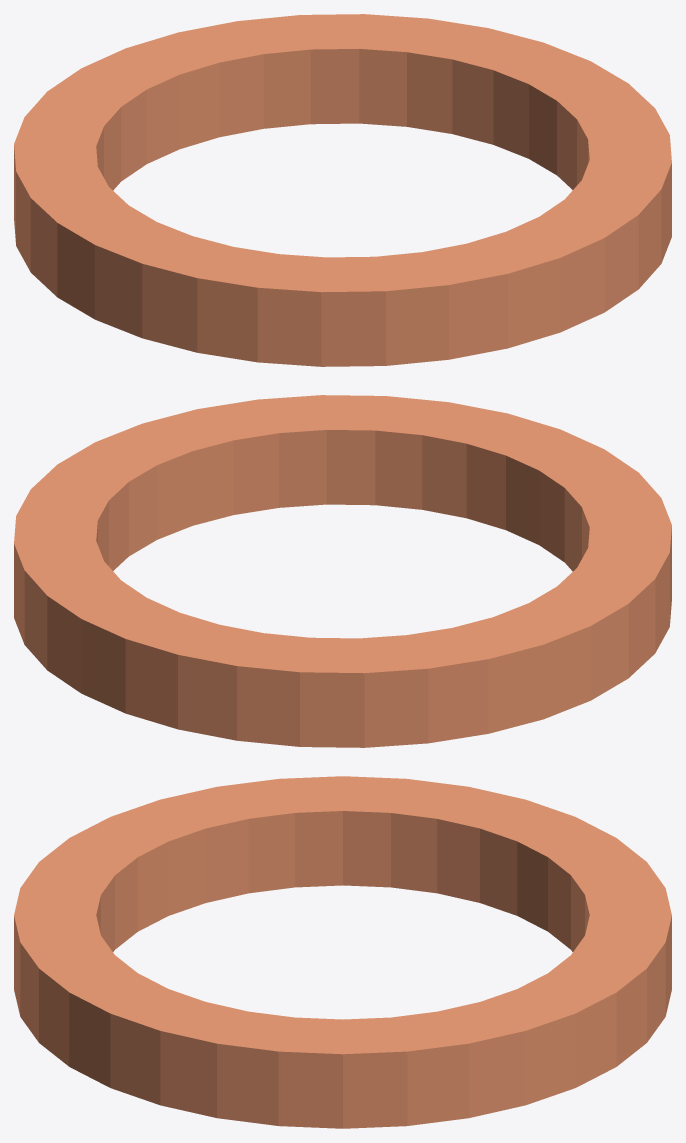
File: Arc03.glb
3 renders of one model, top to bottom at view 1: azimuth 30°, elevation 25°; view 2: azimuth 150°, elevation 25°; view 3: azimuth 270°, elevation 25°, orthographic.
Parts seen in each view (by area): view 1: Arc.03; view 2: Arc.03; view 3: Arc.03.
Boxes of the visible parts, bbox=[...] form: Arc.03: bbox=[14, 14, 671, 366]; Arc.03: bbox=[14, 395, 671, 747]; Arc.03: bbox=[14, 776, 671, 1128].
Size of the model in its own units: 8 by 1 by 8.
